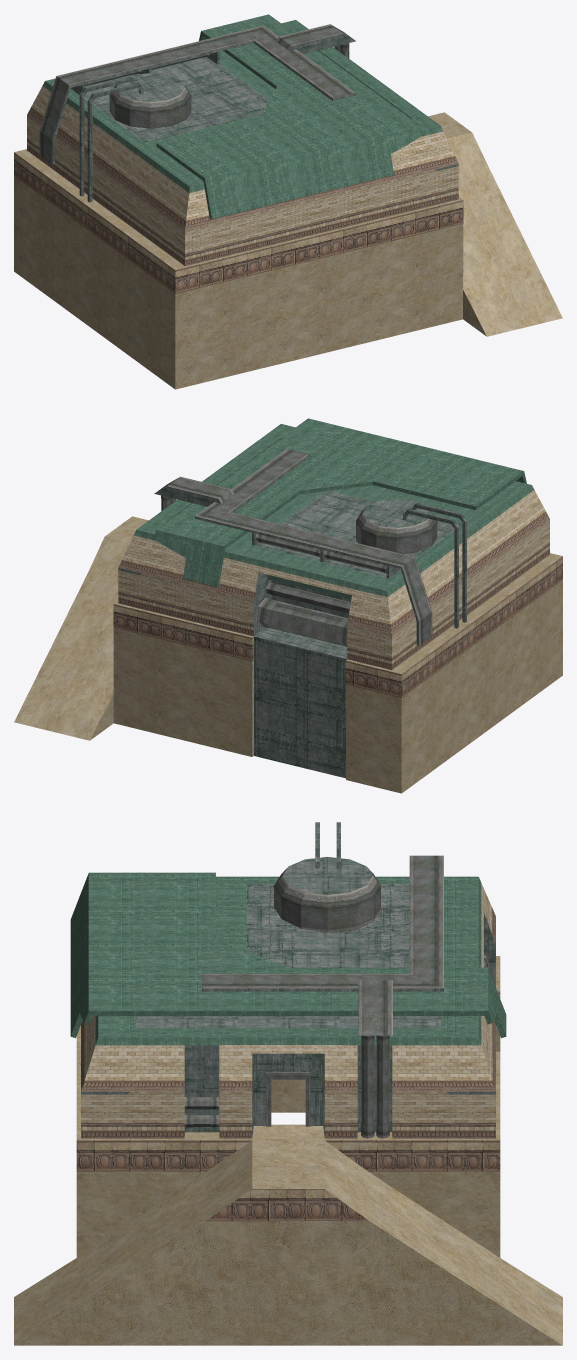
Rendered from ply_nboo_cloning_facility_s01_r0_mesh_l1.fbx.
3 views of the same model, one above another, from view 1: azimuth 30°, elevation 25°; view 2: azimuth 150°, elevation 25°; view 3: azimuth 270°, elevation 25° (orthographic). The views are drawn at different scales.
Visible parts, largest first — view 1: mesh_node; view 2: mesh_node; view 3: mesh_node.
Boxes of the visible parts, x1=… form: mesh_node: x1=14, y1=14, x2=562, y2=389; mesh_node: x1=14, y1=418, x2=562, y2=793; mesh_node: x1=14, y1=822, x2=562, y2=1345.
Bounding box in the file's own units: 31.9 × 18.93 × 31.75.
